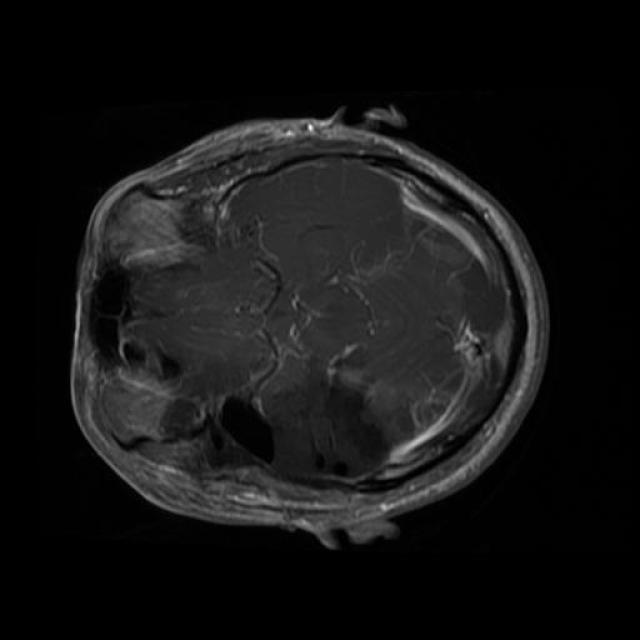Glioma: (220, 378, 393, 478)
